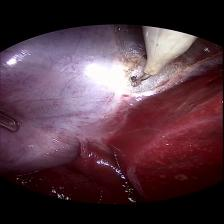Grasper: (0, 107, 24, 136)
Hook: (125, 25, 198, 89)
